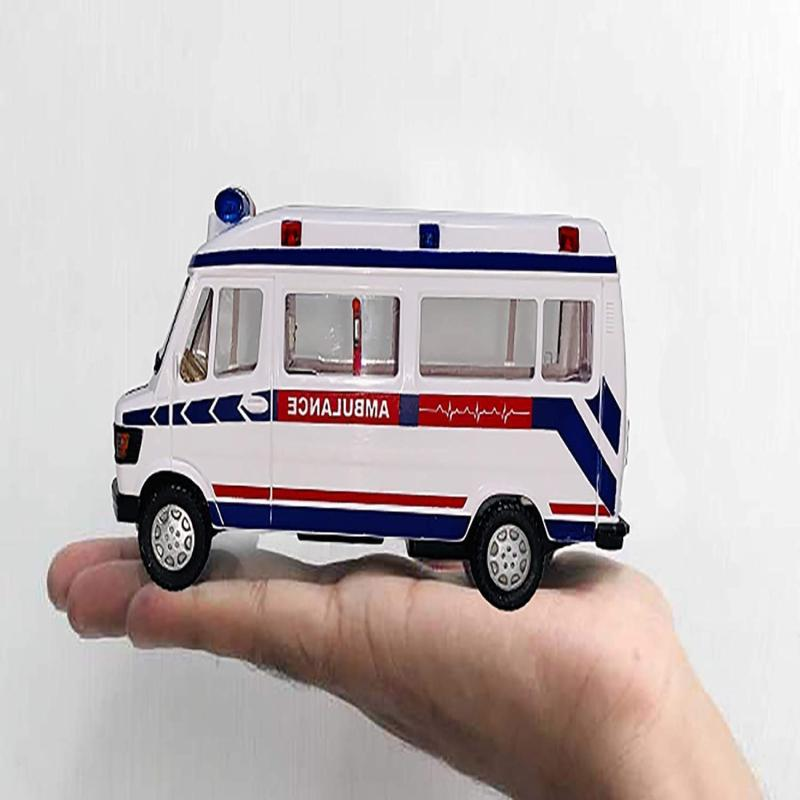ambulance: (93, 139, 646, 620)
